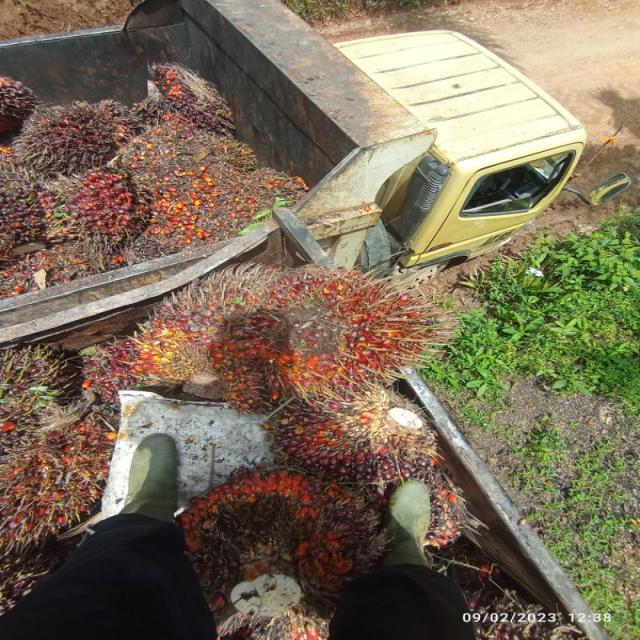fraksi 1: (256, 358, 444, 494), (112, 256, 271, 379), (152, 51, 233, 134)
fraksi 3: (211, 236, 447, 430), (179, 441, 381, 595), (56, 166, 150, 244)
fraksi 4: (10, 98, 109, 172)
